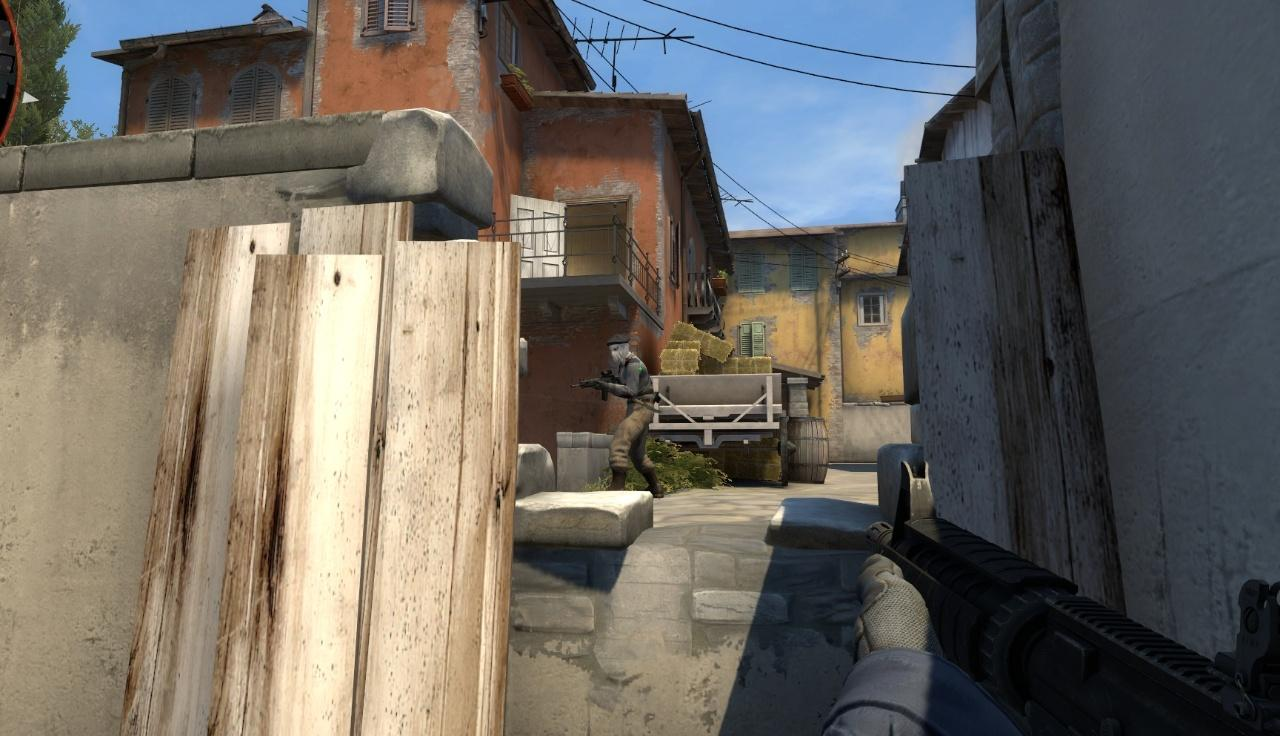rifle: (860, 455, 1280, 736)
tt: (605, 334, 657, 493)
tthead: (609, 336, 629, 364)
